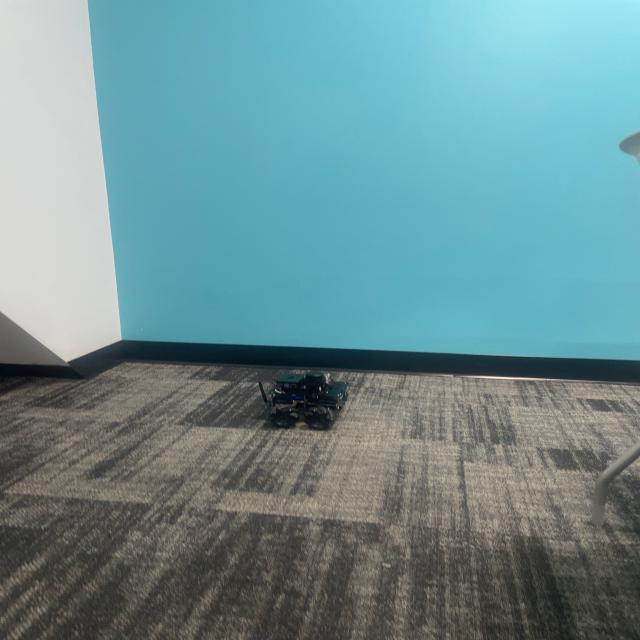ArduinoCar3: (256, 363, 356, 431)
